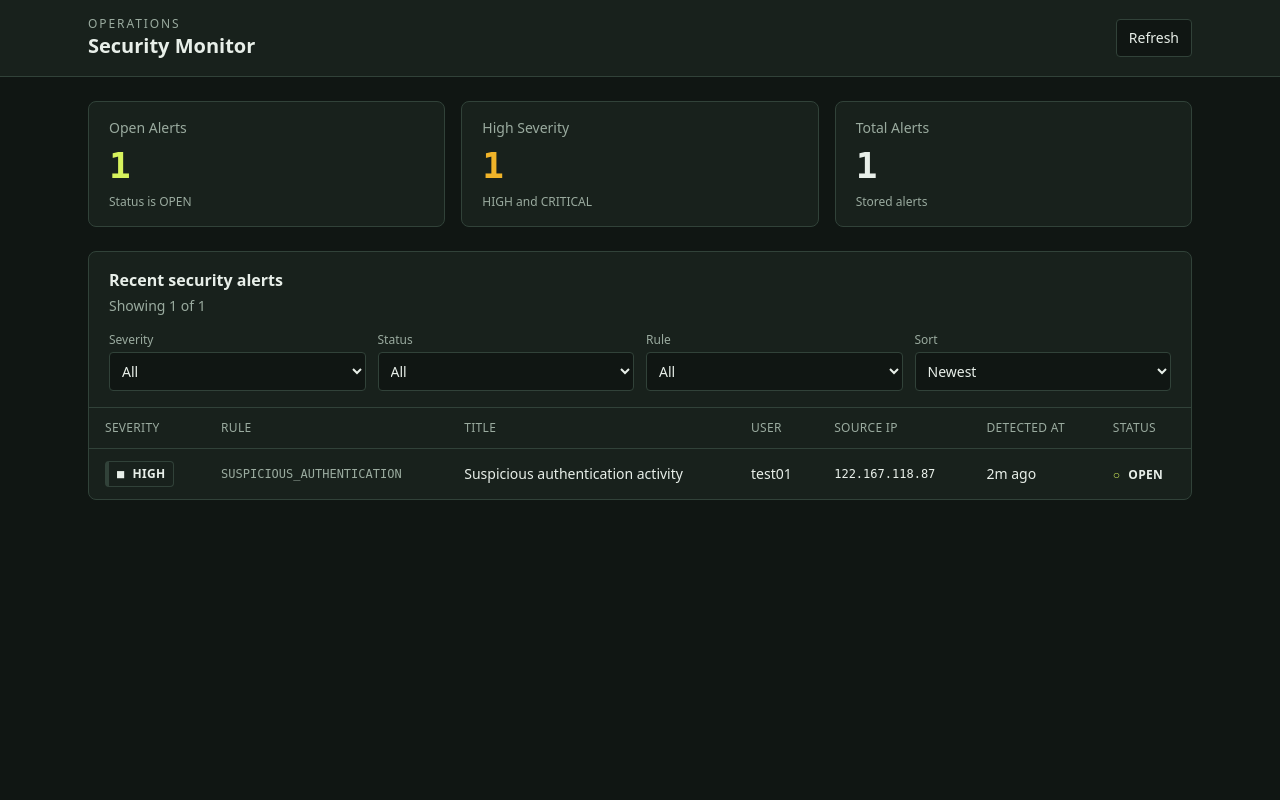
Scenario: DashboardPage › explains when filters match nothing
Check: the link "Suspicious authentication activity" is shown, box [464,464,683,483]
Select "RESOLVED" in the dropdown labelled "Status": coordinates (506, 372) [378,352,634,391]
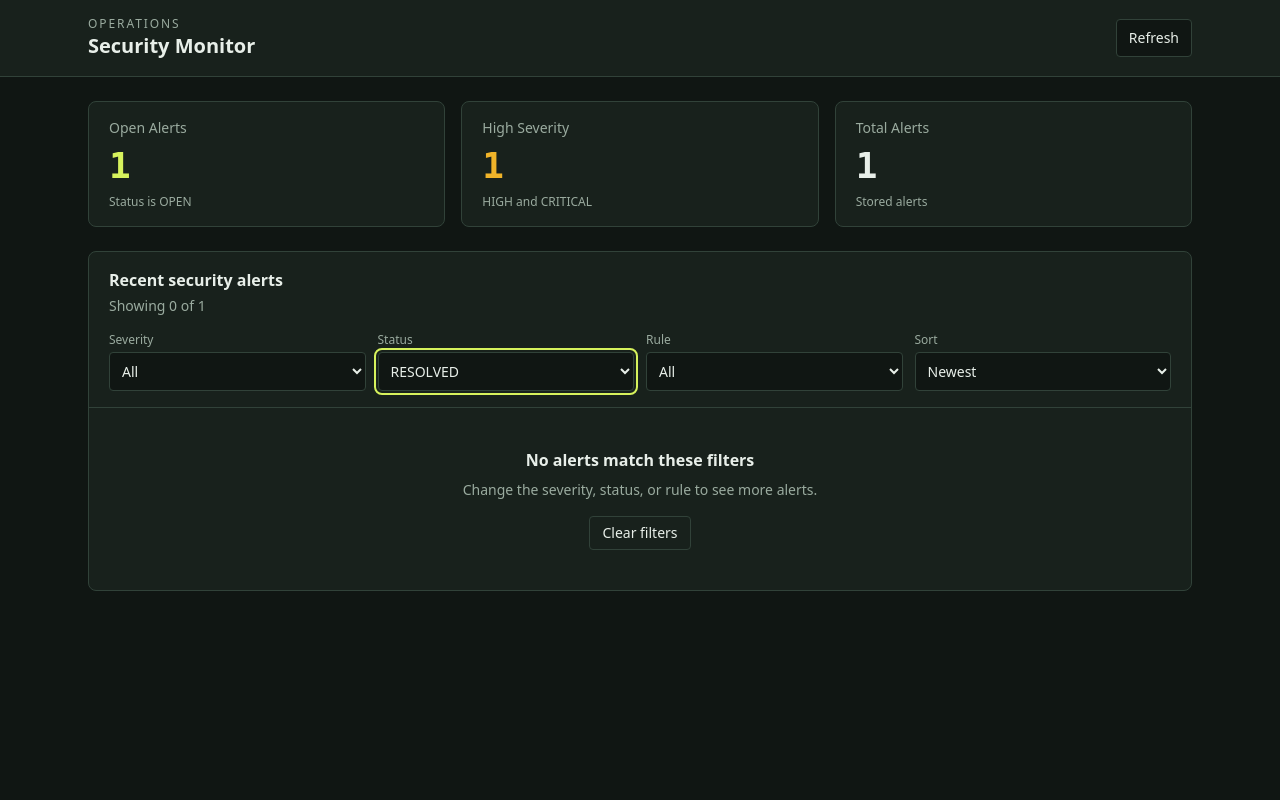
Check: the heading "No alerts match these filters" is shown, box [526,449,754,471]
Check: the table is gone
